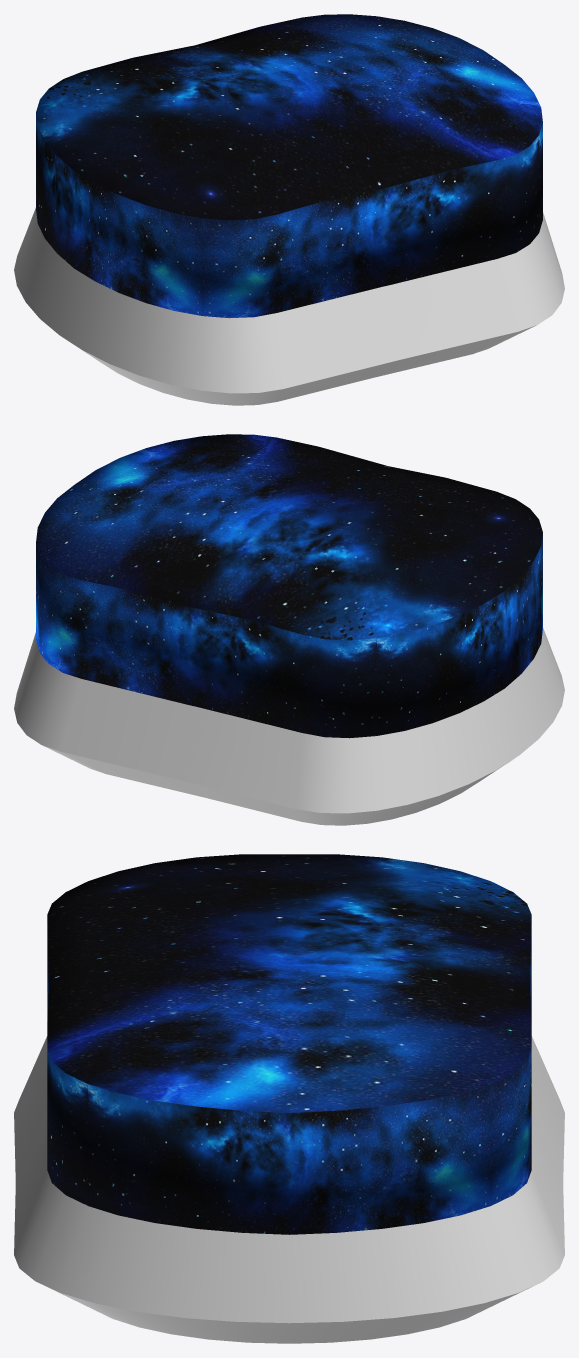
Rendered from PongChamp_Env_ArenaSurround.glb.
3 renders of one model, top to bottom at view 1: azimuth 30°, elevation 25°; view 2: azimuth 150°, elevation 25°; view 3: azimuth 270°, elevation 25°, orthographic. The views are drawn at different scales.
Parts seen in each view (by area): view 1: arena surrounding.002; view 2: arena surrounding.002; view 3: arena surrounding.002.
Part boxes in pixels (x1,y1,x2,y2): arena surrounding.002: [14, 14, 564, 405]; arena surrounding.002: [14, 434, 564, 825]; arena surrounding.002: [14, 854, 564, 1343].
Size of the model in its own units: 110 by 50.9 by 91.74.
2 materials, 1 textured.
